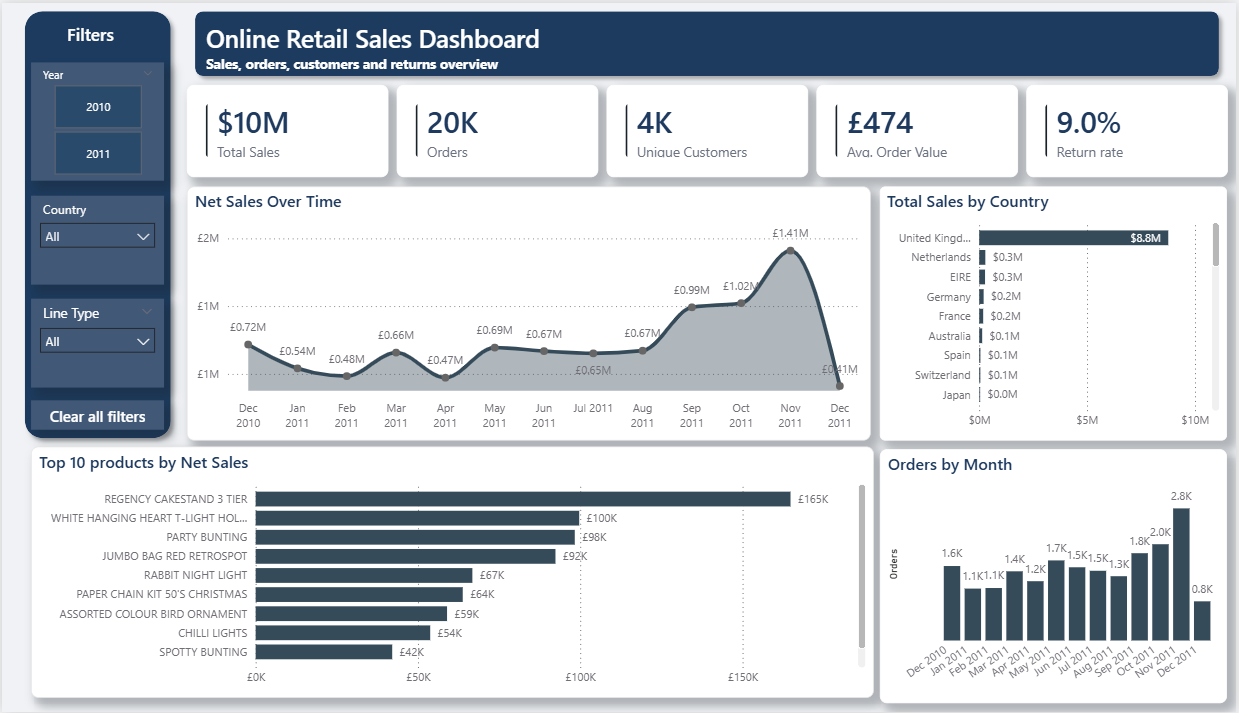

The page's visual inventory and layout, read from the dashboard file:
{"tool":"powerbi","page":{"name":"Sales Overview","canvas":[1336,920],"ordinal":0},"visuals":[{"type":"shape","box":[16,0,176,560],"z":1000},{"type":"cardVisual","fields":{"Data":["Online Retail.Net Sales"]},"box":[200,104,218,104],"z":2000},{"type":"slicer","fields":{"Values":["Calendar.Year"]},"box":[32,80,144,160],"z":3000},{"type":"slicer","fields":{"Values":["Online Retail.Country"]},"box":[32,256,144,88],"z":4000},{"type":"slicer","fields":{"Values":["Online Retail.Line_Type"]},"box":[32,368,144,88],"z":5000},{"type":"cardVisual","fields":{"Data":["Online Retail.Orders"]},"box":[427,104,218,104],"z":6000},{"type":"cardVisual","fields":{"Data":["Online Retail.Unique Customers"]},"box":[654,104,218,104],"z":7000},{"type":"cardVisual","fields":{"Data":["Online Retail.Average Order Value"]},"box":[881,104,218,104],"z":8000},{"type":"cardVisual","fields":{"Data":["Online Retail.Return rate"]},"box":[1108,104,218,104],"z":9000},{"type":"lineChart","title":"Net merchandise sales by month","fields":{"Category":["Calendar.YearMonth_Label"],"Y":["Online Retail.Net Sales"]},"box":[200,224,552,344],"z":10000},{"type":"clusteredBarChart","title":"Top 10 countries by net sales","fields":{"Category":["Online Retail.Country"],"Y":["Online Retail.Net Sales"]},"box":[768,250,558,318],"z":11000},{"type":"clusteredBarChart","title":"Top 10 products by net merchandise sales","fields":{"Category":["DimProduct.Product_Label"],"Y":["Online Retail.Net Sales"]},"box":[32,584,720,304],"z":12000},{"type":"clusteredColumnChart","title":"Sale invoices by month","fields":{"Category":["Calendar.YearMonth_Label"],"Y":["Online Retail.Orders"]},"box":[768,584,558,304],"z":13000},{"type":"shape","box":[200,0,1126,96],"z":14000},{"type":"textbox","title":"Online Retail Sales Dashboard","box":[215,8,1095,54],"z":15000},{"type":"card","fields":{"Values":["Online Retail.Report Context"]},"box":[215,64,1095,25],"z":16000},{"type":"textbox","title":"Filters","box":[16,32,176,40],"z":17000},{"type":"actionButton","title":"Clear all filters","box":[32,496,144,36],"z":18000},{"type":"card","fields":{"Values":["Online Retail.Country Sales Note"]},"box":[768,224,558,26],"z":21000}]}

Visuals, with their boxes on the page's 1336x920 design canvas (x1, y1, x2, y2). These are canvas units, not pixel positions in the 1239x713 screenshot, which may show the page scaled, cropped or inside an application window:
shape: detection(16, 0, 192, 560)
cardVisual - Online Retail.Net Sales: detection(200, 104, 418, 208)
slicer - Calendar.Year: detection(32, 80, 176, 240)
slicer - Online Retail.Country: detection(32, 256, 176, 344)
slicer - Online Retail.Line_Type: detection(32, 368, 176, 456)
cardVisual - Online Retail.Orders: detection(427, 104, 645, 208)
cardVisual - Online Retail.Unique Customers: detection(654, 104, 872, 208)
cardVisual - Online Retail.Average Order Value: detection(881, 104, 1099, 208)
cardVisual - Online Retail.Return rate: detection(1108, 104, 1326, 208)
"Net merchandise sales by month" lineChart: detection(200, 224, 752, 568)
"Top 10 countries by net sales" clusteredBarChart: detection(768, 250, 1326, 568)
"Top 10 products by net merchandise sales" clusteredBarChart: detection(32, 584, 752, 888)
"Sale invoices by month" clusteredColumnChart: detection(768, 584, 1326, 888)
shape: detection(200, 0, 1326, 96)
"Online Retail Sales Dashboard" textbox: detection(215, 8, 1310, 62)
card - Online Retail.Report Context: detection(215, 64, 1310, 89)
"Filters" textbox: detection(16, 32, 192, 72)
"Clear all filters" actionButton: detection(32, 496, 176, 532)
card - Online Retail.Country Sales Note: detection(768, 224, 1326, 250)
